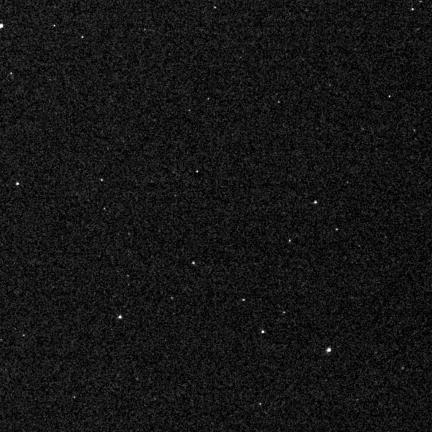blob: (327, 347, 331, 352), (16, 182, 20, 186), (242, 299, 246, 302), (0, 24, 3, 28), (262, 330, 265, 334), (101, 179, 104, 182), (118, 315, 121, 318), (314, 201, 317, 204), (192, 262, 195, 264), (82, 36, 84, 39)
